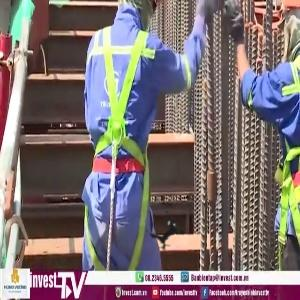drone: (128, 197, 205, 274)
